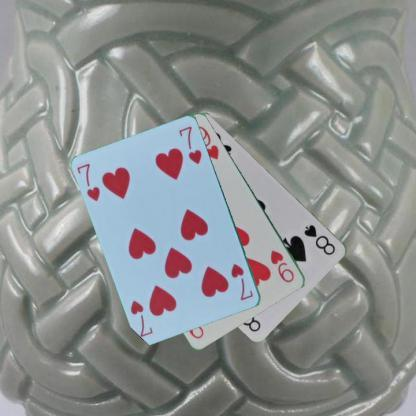7h: (74, 161, 102, 204), (228, 261, 255, 302)
8s: (301, 221, 337, 256)
9h: (268, 247, 296, 284)
